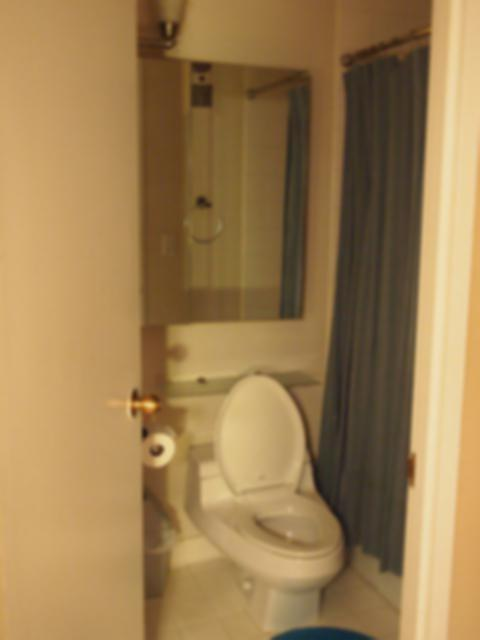Bote de Basura: (116, 481, 169, 595)
Ducha: (336, 39, 458, 618)
Sanitario: (178, 368, 345, 629)
